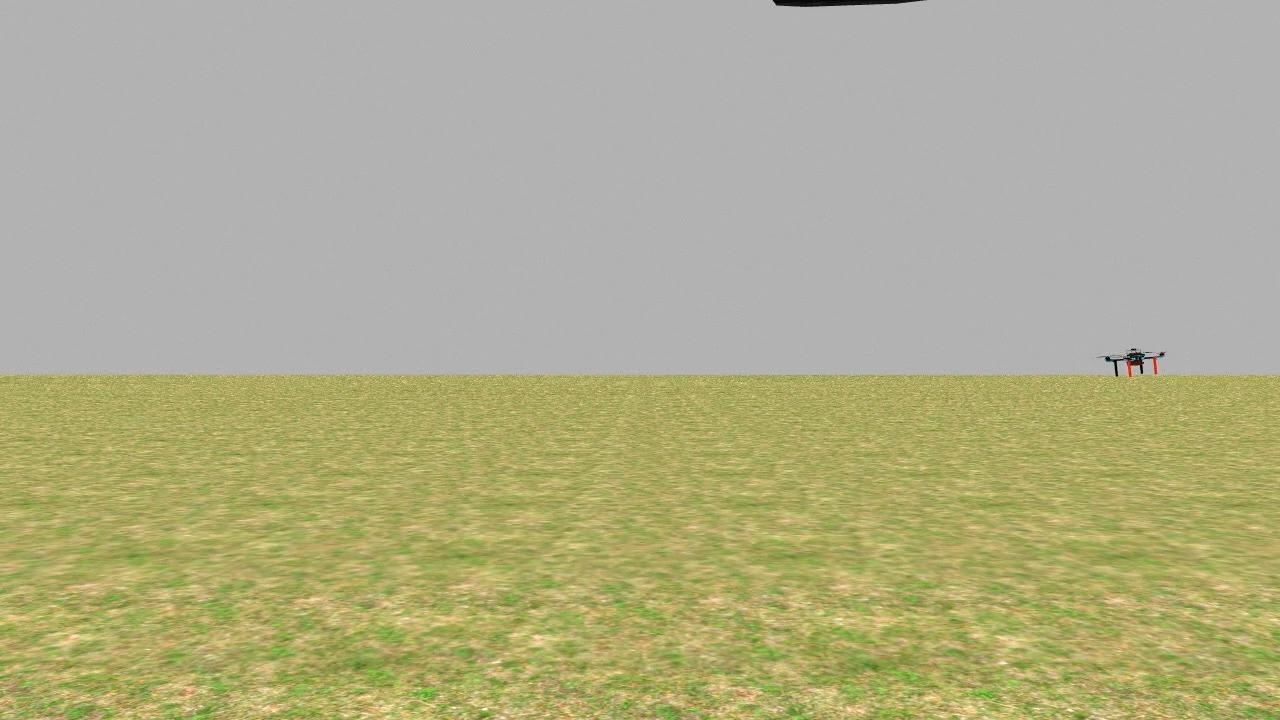UAV: (1099, 340, 1174, 387)
